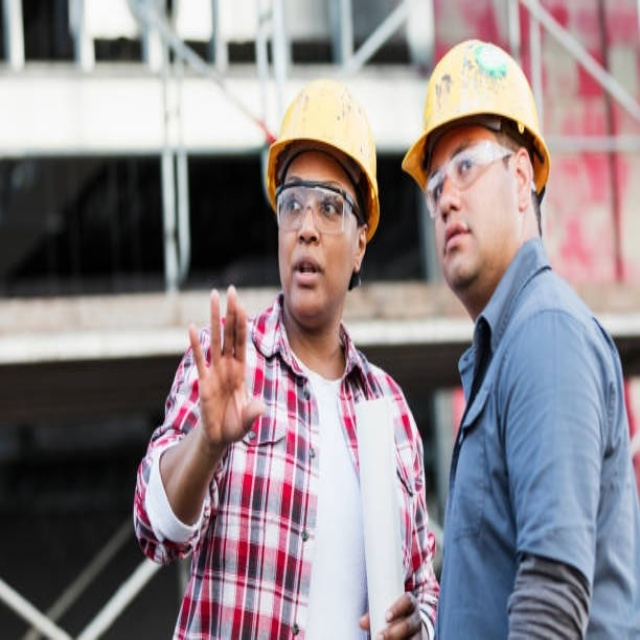Gafas: (425, 139, 516, 216), (276, 184, 363, 237)
Sin_guantes: (188, 282, 269, 450), (361, 592, 422, 640)
Sin_mascara: (285, 250, 328, 311), (436, 216, 474, 279)
